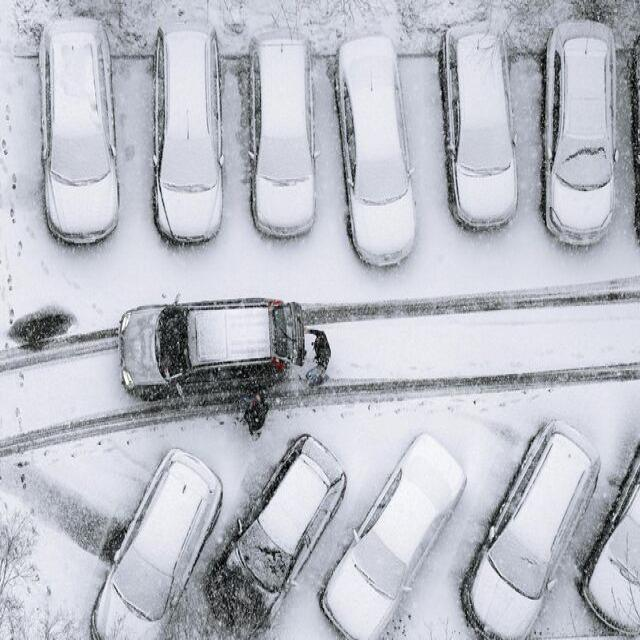car: (325, 431, 466, 640), (468, 421, 601, 640), (219, 435, 345, 640), (91, 447, 223, 640), (334, 36, 416, 270), (119, 302, 298, 406), (38, 21, 120, 248), (441, 18, 519, 233), (150, 21, 222, 247), (544, 19, 614, 249), (248, 32, 318, 239), (582, 423, 640, 639)
